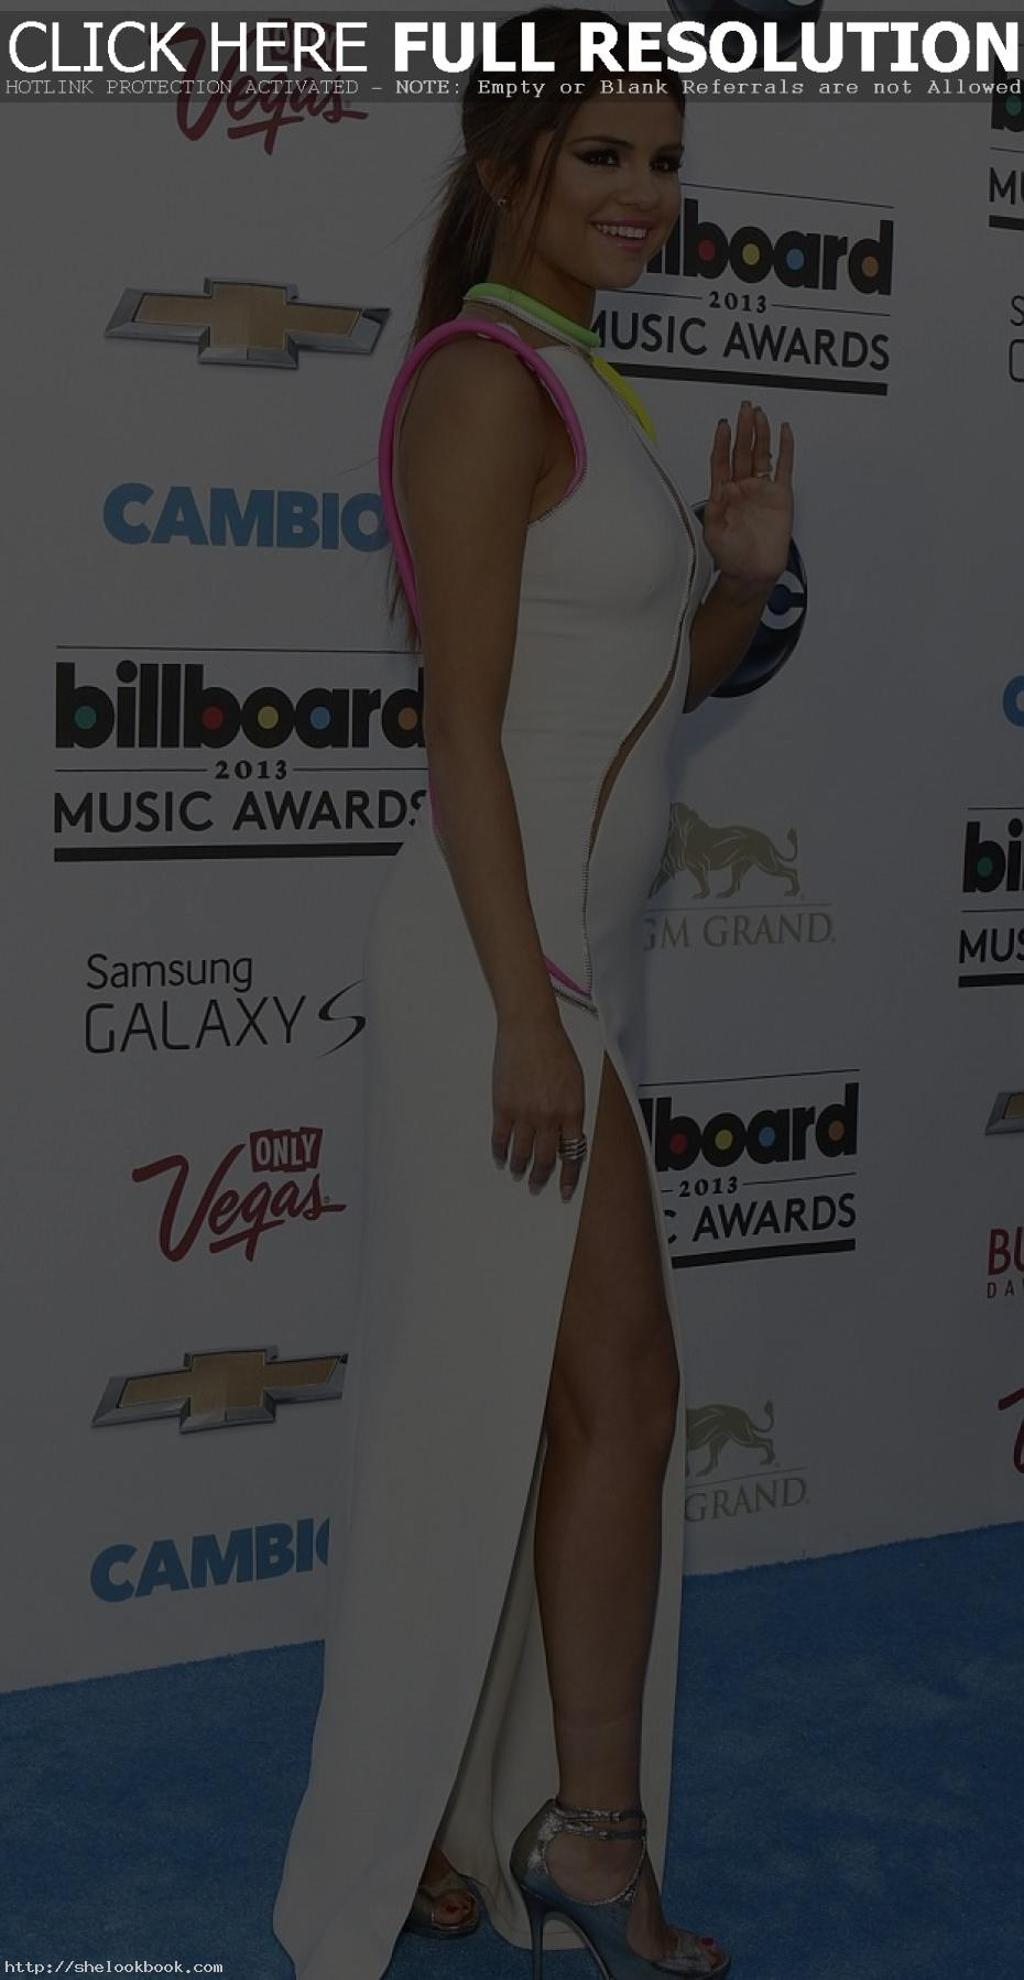face: (518, 62, 676, 290)
